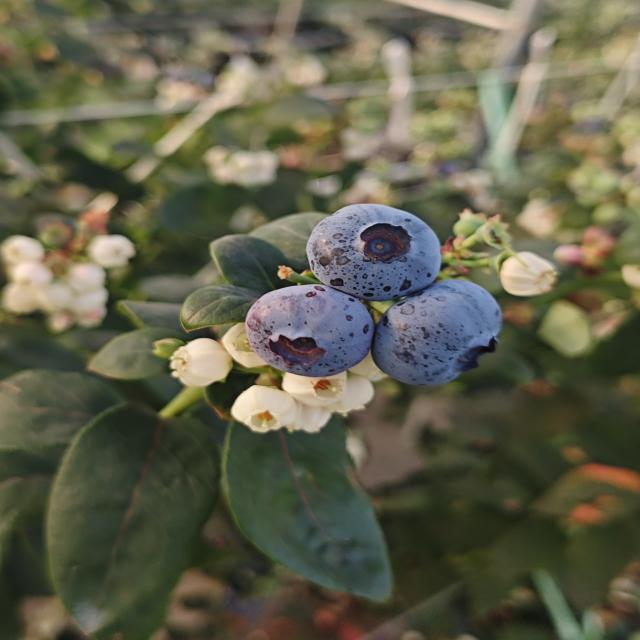ripe: (370, 278, 504, 388), (304, 202, 444, 302), (243, 282, 375, 378)
